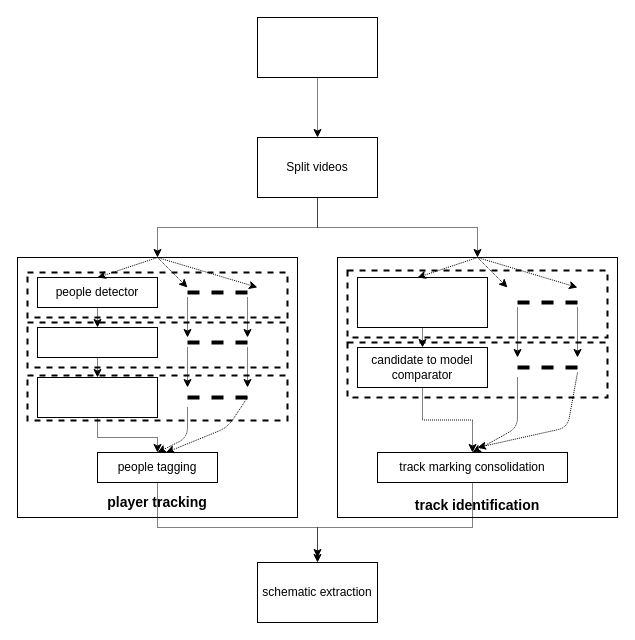
Image size: 635x640. Some labels were removed from this diagram. Here are the shapes that lost their labels. From the top down, the centre of each, then its label:
At (x=317, y=47): "Upload API".
At (x=422, y=302): "track marking candidate detection".
At (x=97, y=342): "team classifier".
At (x=97, y=397): "text/number extractor".
